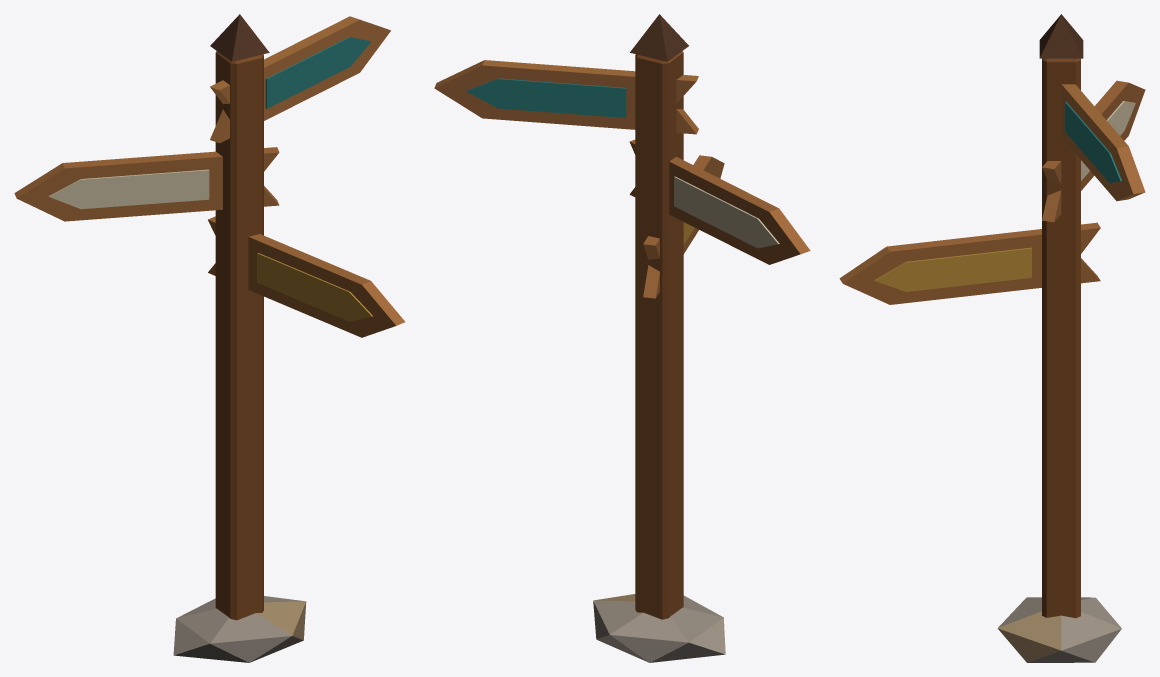
The model's file is signpost.glb.
3 renders of one model, left to right at view 1: azimuth 30°, elevation 25°; view 2: azimuth 150°, elevation 25°; view 3: azimuth 270°, elevation 25°, orthographic.
Visible parts, largest first — view 1: signpost; view 2: signpost; view 3: signpost.
Boxes of the visible parts, bbox=[...] form: signpost: bbox=[14, 14, 404, 662]; signpost: bbox=[434, 14, 810, 662]; signpost: bbox=[839, 14, 1145, 662].
Bounding box in the file's own units: 1.33 × 2.12 × 0.9395.
